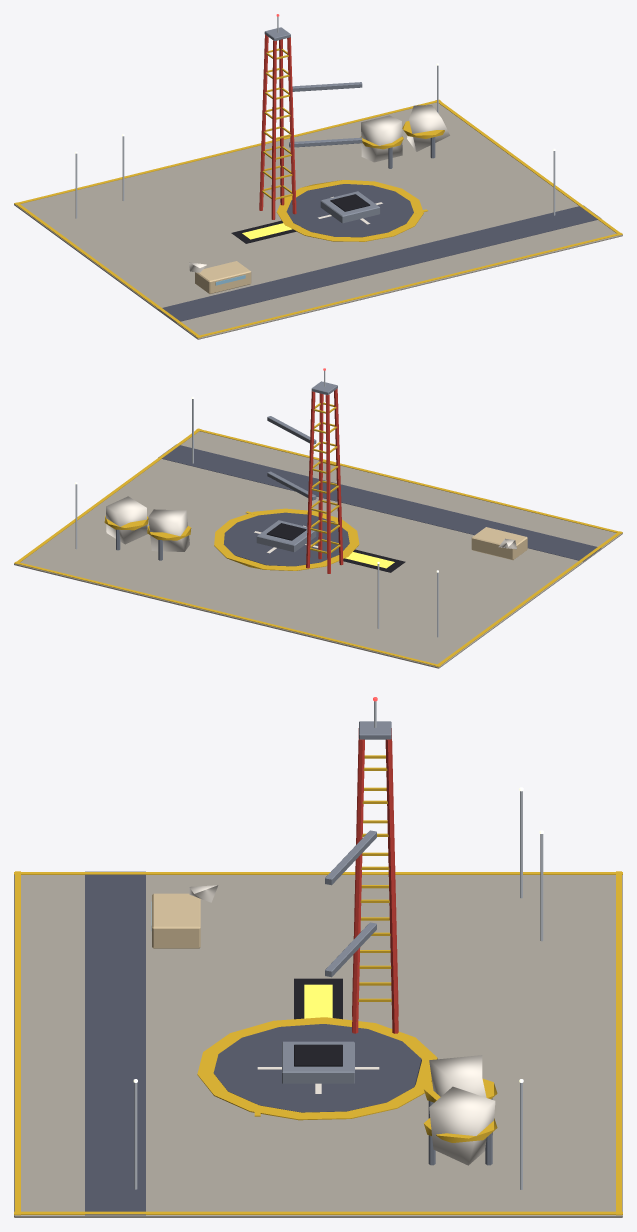
Rendered from launch_pad.glb.
3 renders of one model, top to bottom at view 1: azimuth 30°, elevation 25°; view 2: azimuth 150°, elevation 25°; view 3: azimuth 270°, elevation 25°, orthographic. The views are drawn at different scales.
Parts seen in each view (by area): view 1: launch_pad; view 2: launch_pad; view 3: launch_pad.
Boxes of the visible parts, x1,y1,x2,y2 form: launch_pad: [14, 14, 622, 339]; launch_pad: [14, 368, 622, 668]; launch_pad: [14, 697, 622, 1217].
Bounding box in the file's own units: 400 × 179 × 300.
1 material, 1 textured.
